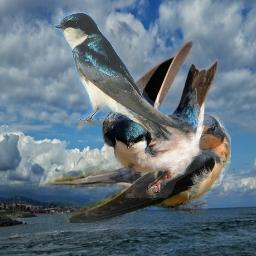Swallow: (32, 112, 231, 223), (101, 39, 219, 198), (54, 12, 187, 141)
